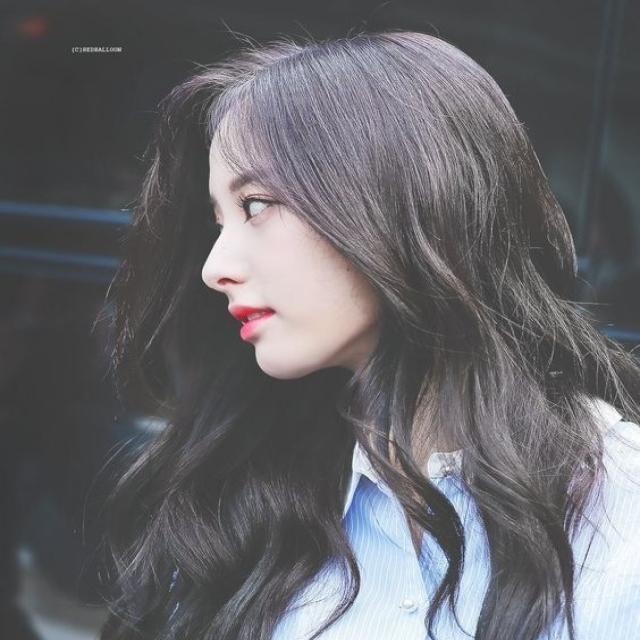Nonhelmet: (153, 48, 512, 402)
